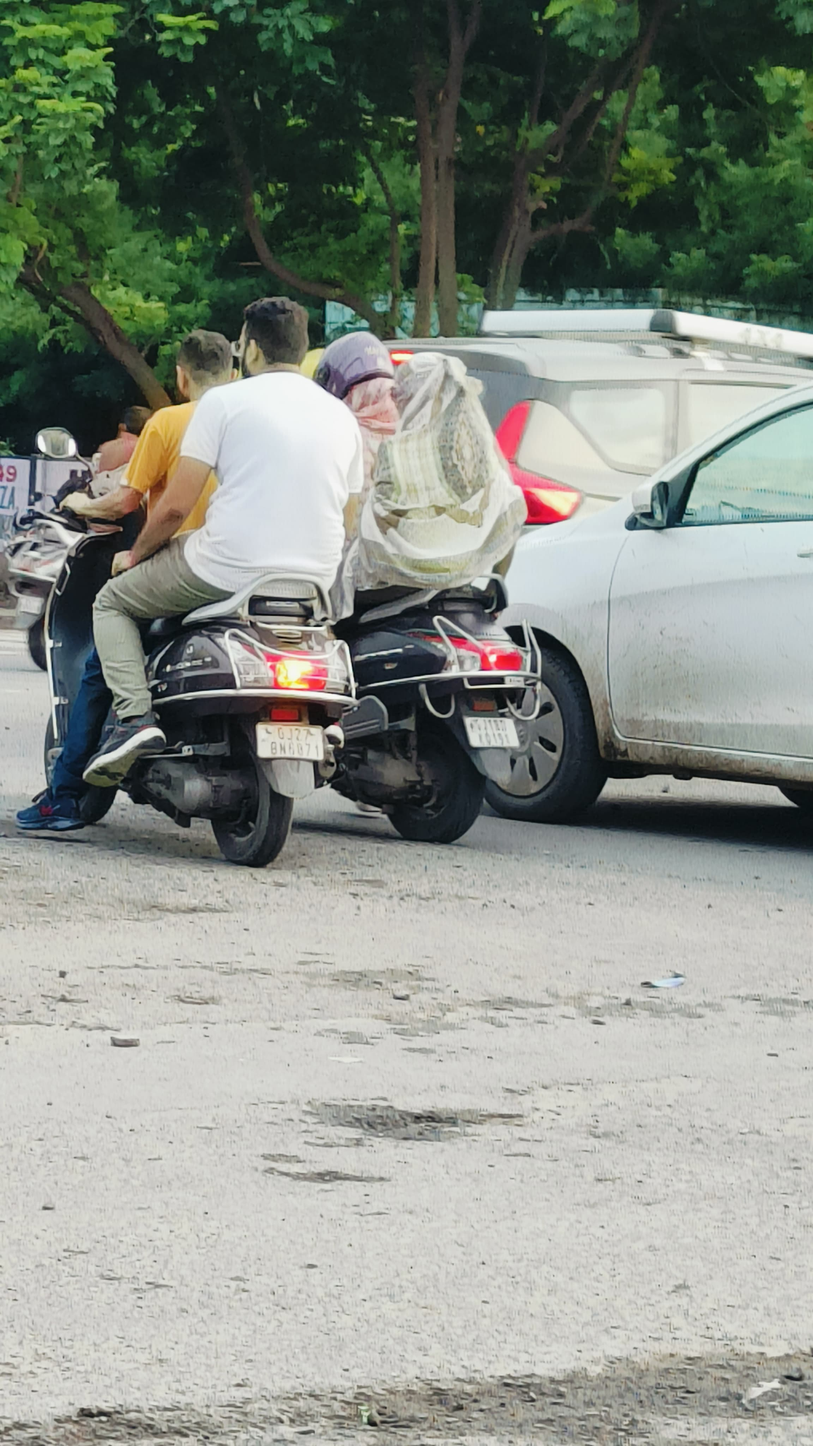BikeWithRider: (8, 282, 373, 870), (281, 317, 558, 854)
Helmet: (307, 325, 401, 410)
NoHelmet: (227, 291, 320, 386), (382, 346, 478, 432), (163, 323, 242, 410)
